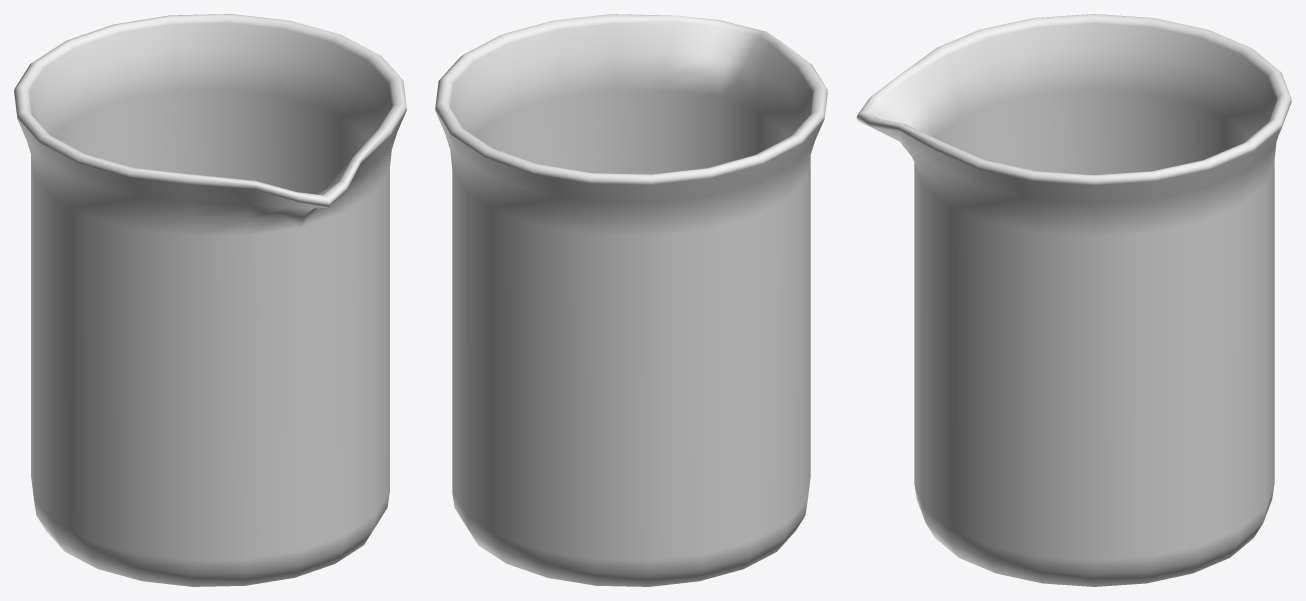
The model's file is b100a_minified.gltf.
3 views of the same model, side by side, from view 1: azimuth 30°, elevation 25°; view 2: azimuth 150°, elevation 25°; view 3: azimuth 270°, elevation 25° (orthographic).
Parts seen in each view (by area): view 1: Bequer_100mL; view 2: Bequer_100mL; view 3: Bequer_100mL.
Boxes of the visible parts, x1,y1,x2,y2 form: Bequer_100mL: [14, 14, 406, 586]; Bequer_100mL: [435, 14, 827, 586]; Bequer_100mL: [856, 14, 1291, 586].
Size of the model in its own units: 0.0682 by 0.0816 by 0.0752.
1 material, 1 textured.
